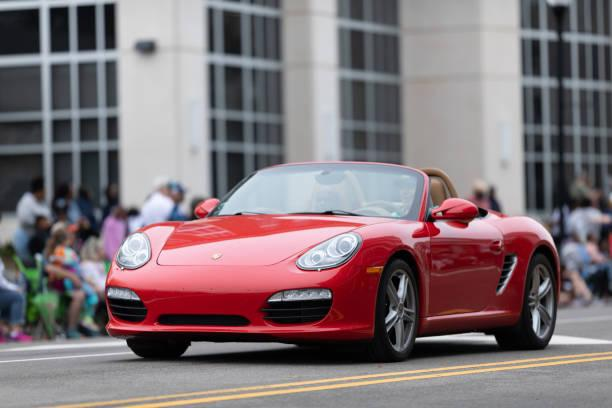porsche: (208, 249, 226, 261)
